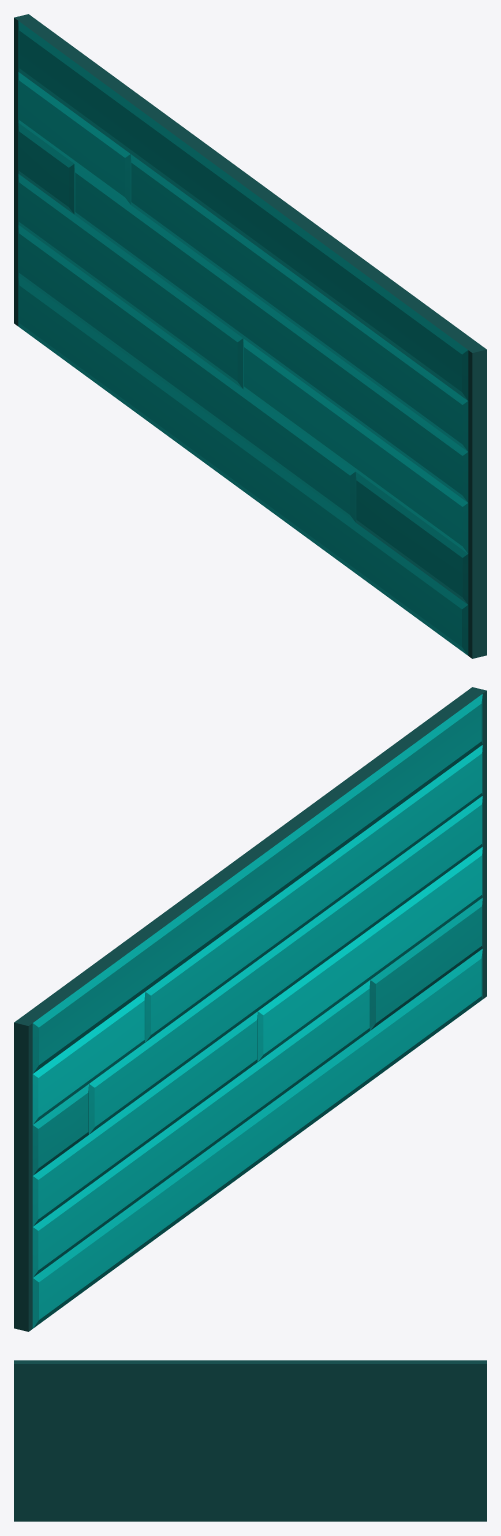
The model's file is TSP_House_Wall_Regular_05B.fbx.
3 renders of one model, top to bottom at view 1: azimuth 30°, elevation 25°; view 2: azimuth 150°, elevation 25°; view 3: azimuth 270°, elevation 25°, orthographic. The views are drawn at different scales.
Visible parts, largest first — view 1: TSP_House_Wall_Regular_05B; view 2: TSP_House_Wall_Regular_05B; view 3: TSP_House_Wall_Regular_05B.
Boxes of the visible parts, box(x1,y1,x2,y2) form: TSP_House_Wall_Regular_05B: box(14, 14, 486, 658); TSP_House_Wall_Regular_05B: box(14, 687, 486, 1331); TSP_House_Wall_Regular_05B: box(14, 1360, 486, 1521).
Size of the model in its own units: 17.5 by 300 by 815.
